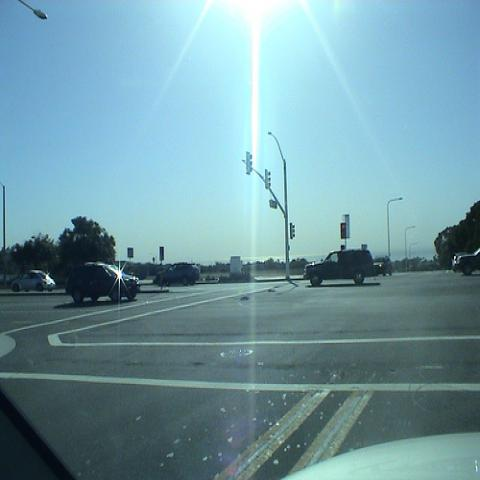car: (65, 262, 141, 304), (154, 261, 200, 285), (12, 270, 56, 292), (450, 247, 479, 275), (373, 254, 393, 276)
truck: (302, 251, 378, 288), (453, 248, 479, 276)
